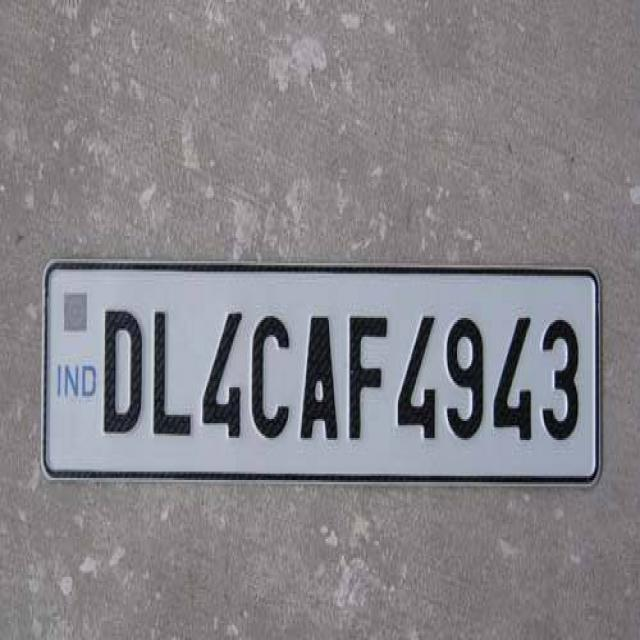License_Plate: (46, 264, 599, 484)
